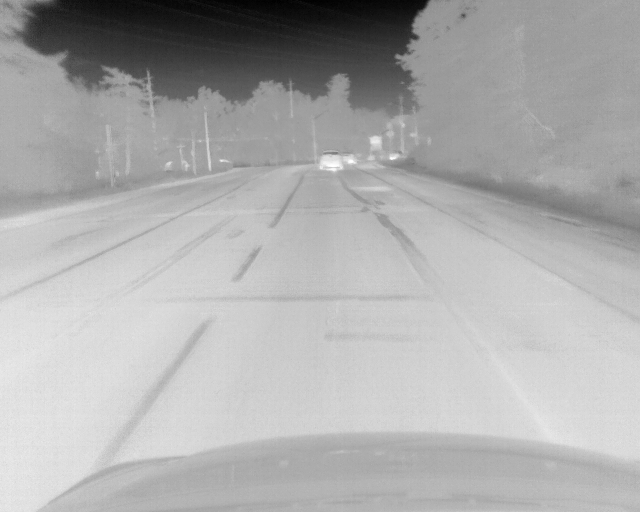car: (319, 150, 342, 172), (342, 151, 358, 166)
